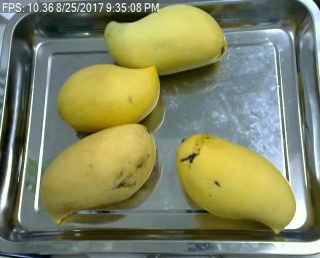Mango: (174, 122, 308, 242), (27, 125, 163, 227), (94, 2, 237, 76), (55, 59, 169, 138)
